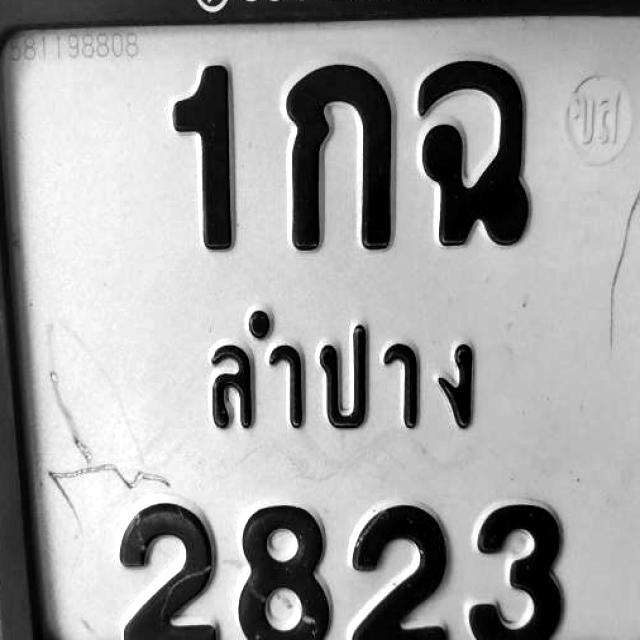letters: (415, 65, 550, 256), (282, 67, 404, 250), (220, 503, 340, 640), (168, 71, 253, 259), (101, 503, 216, 640), (466, 495, 574, 640), (348, 501, 458, 640)
license-plate: (0, 0, 640, 640)
province: (190, 320, 522, 454)
